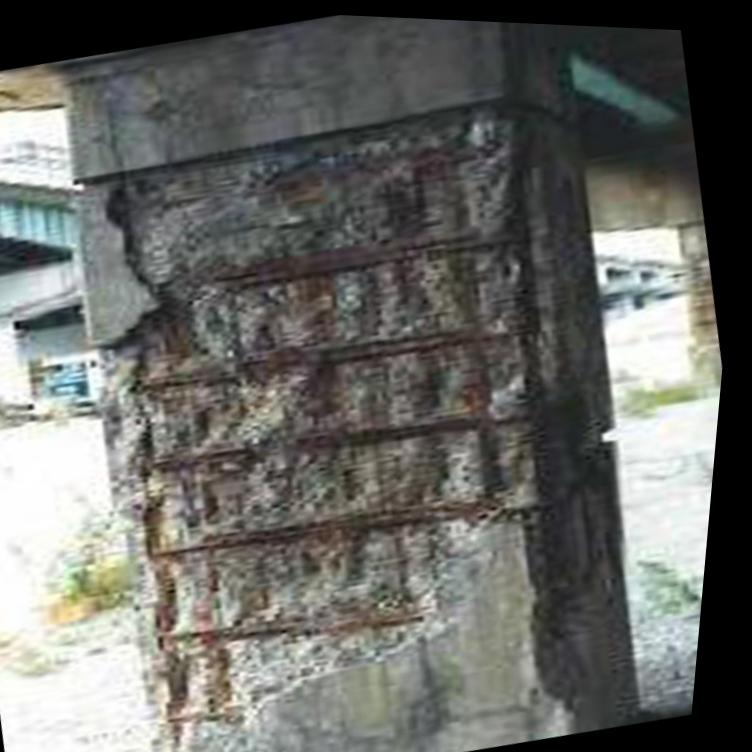damage: (111, 95, 630, 738)
